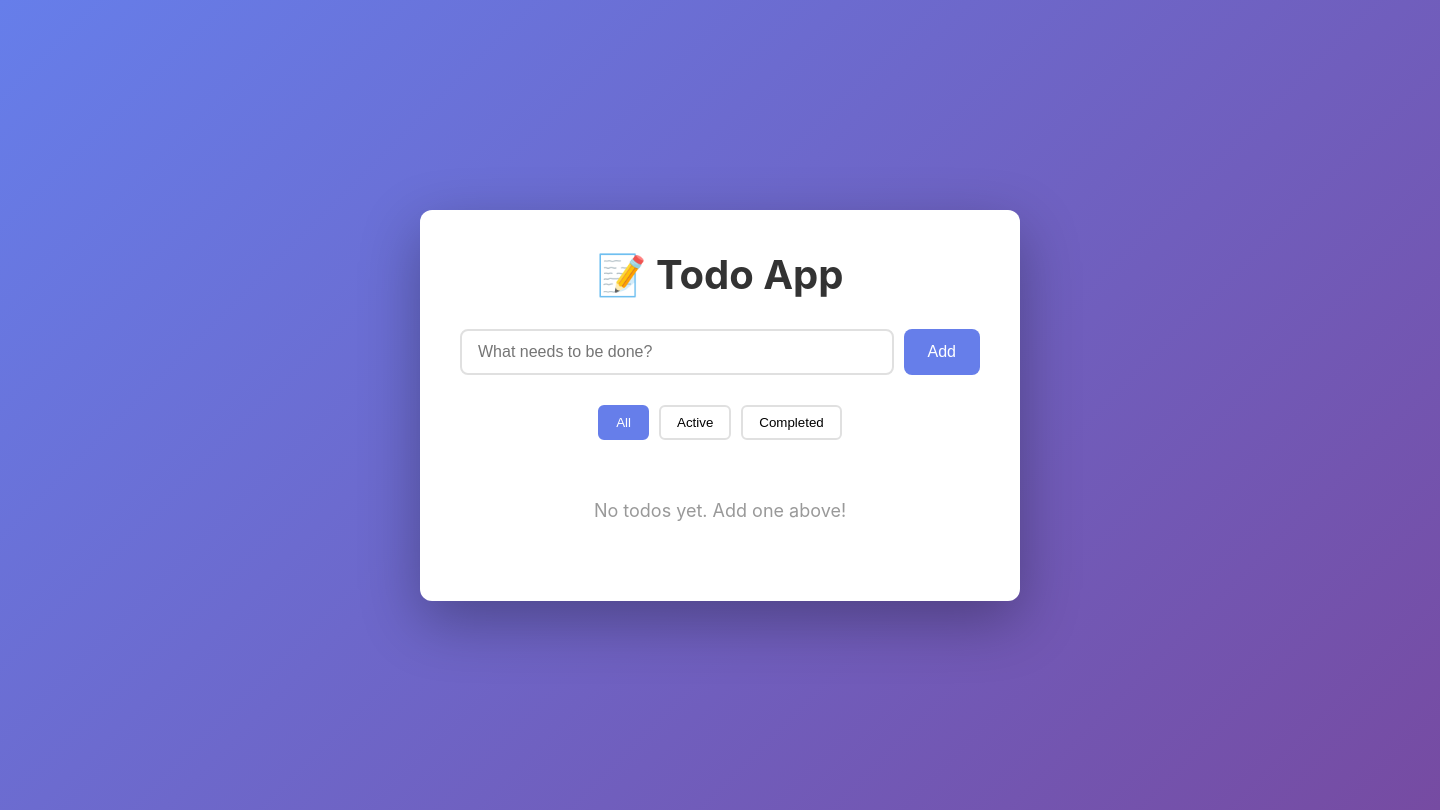
it: App Component › adds a new todo when clicking add button
The image size is (1440, 810).
Type "Buy groceries" into the field with placeholder "What needs to be done?" at (677, 352), box [460,328,894,374]
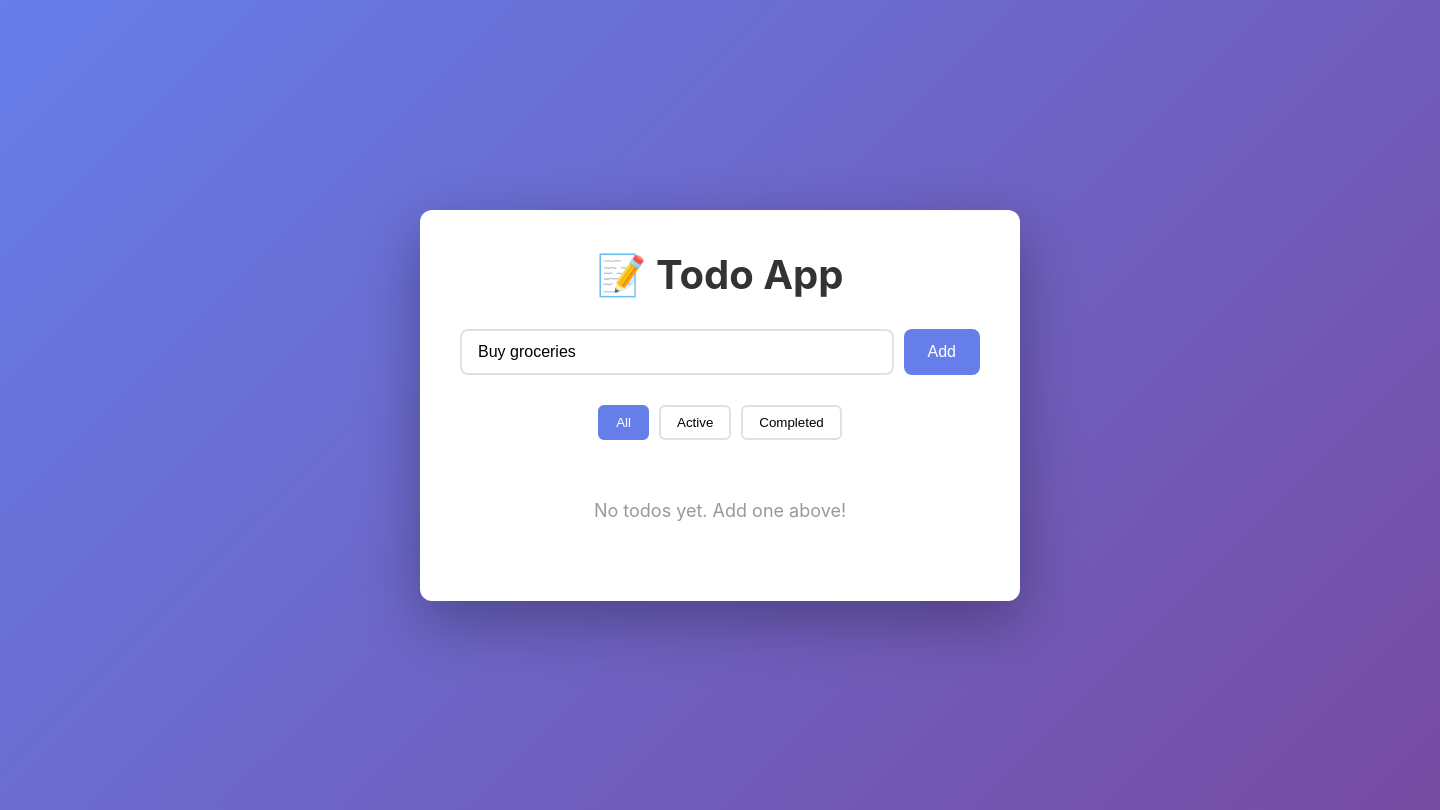
Click the button "Add" at (942, 352), box [904,328,980,374]
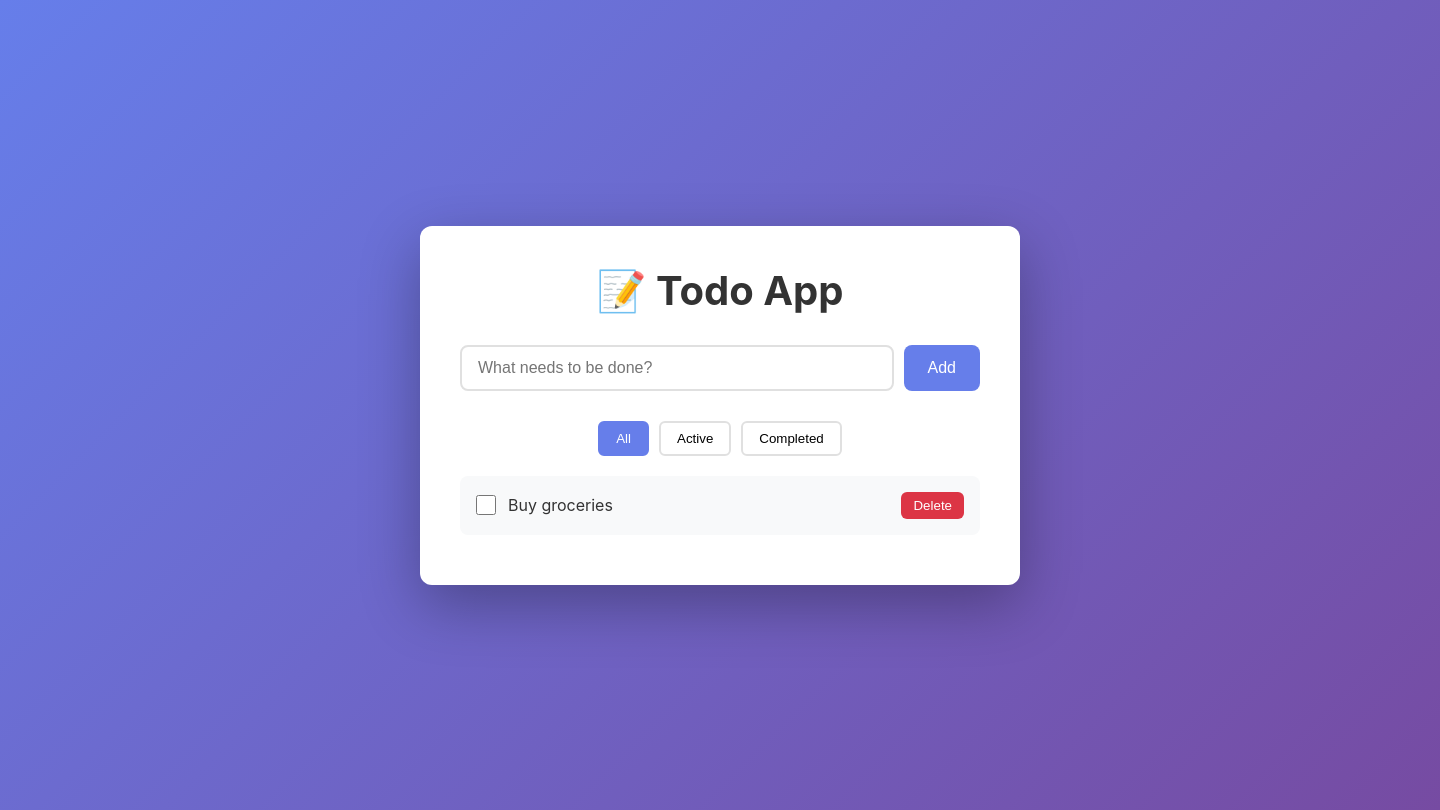
Check: the text "Buy groceries" is shown, box [508,495,613,515]
